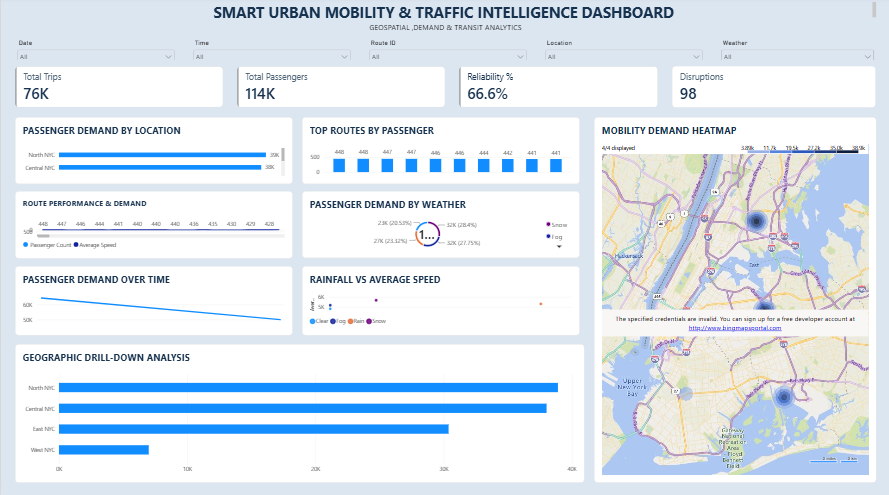

Layout of this report page (visuals, bound fields, positions):
{"tool":"powerbi","page":{"name":"Page 2","canvas":[1920,1080],"ordinal":1},"visuals":[{"type":"textbox","box":[30,10,1860,45],"z":0},{"type":"textbox","box":[30,55,1860,25],"z":1000},{"type":"slicer","fields":{"Values":["DimDate.Date"]},"box":[30,90,350,45],"z":2000},{"type":"slicer","fields":{"Values":["FactTraffic.Time"]},"box":[410,90,350,45],"z":3000},{"type":"slicer","fields":{"Values":["DimRoute.Route ID"]},"box":[790,90,350,45],"z":4000},{"type":"slicer","fields":{"Values":["DimLocation.Location"]},"box":[1170,90,350,45],"z":5000},{"type":"slicer","fields":{"Values":["DimWeather.Weather"]},"box":[1550,90,340,45],"z":6000},{"type":"cardVisual","fields":{"Data":["Sum(FactTraffic.Vehicle_Count)"]},"box":[30,150,450,90],"z":7000},{"type":"cardVisual","fields":{"Data":["Sum(FactTraffic.Passenger Count)"]},"box":[510,150,450,90],"z":8000},{"type":"cardVisual","fields":{"Data":["FactTraffic.Reliability %"]},"box":[990,150,430,90],"z":9000},{"type":"cardVisual","fields":{"Data":["DimDate.Disruptions"]},"box":[1450,150,440,90],"z":10000},{"type":"clusteredBarChart","title":"PASSENGER DEMAND BY LOCATION","fields":{"Category":["DimLocation.Location"],"Y":["Sum(FactTraffic.Passenger Count)"]},"box":[30,260,600,145],"z":11000},{"type":"clusteredColumnChart","title":"TOP ROUTES BY PASSENGER","fields":{"Category":["FactTraffic.RouteID"],"Y":["Sum(FactTraffic.Passenger Count)"]},"box":[650,260,600,145],"z":12000},{"type":"lineClusteredColumnComboChart","title":"ROUTE PERFORMANCE & DEMAND","fields":{"Category":["FactTraffic.RouteID"],"Y":["Sum(FactTraffic.Passenger Count)"],"Y2":["Sum(FactTraffic.Average Speed)"]},"box":[30,420,600,146],"z":13000},{"type":"donutChart","title":"PASSENGER DEMAND BY WEATHER","fields":{"Category":["DimWeather.Weather"],"Y":["Sum(FactTraffic.Passenger Count)"]},"box":[650,420,600,145],"z":14000},{"type":"lineChart","title":"PASSENGER DEMAND OVER TIME","fields":{"Category":["FactTraffic.Date"],"Y":["Sum(FactTraffic.Passenger Count)"]},"box":[30,580,600,150],"z":15000},{"type":"clusteredBarChart","title":"GEOGRAPHIC DRILL-DOWN ANALYSIS","fields":{"Category":["FactTraffic.Location","FactTraffic.RouteID"],"Y":["Sum(FactTraffic.Passenger Count)"]},"box":[30,750,1230,300],"z":16000},{"type":"scatterChart","title":"RAINFALL VS AVERAGE SPEED","fields":{"Series":["DimWeather.Weather"],"Size":["Sum(FactTraffic.Passenger Count)"],"X":["Sum(FactTraffic.Rainfall)"],"Y":["Sum(FactTraffic.Average Speed)"]},"box":[650,580,600,150],"z":18000},{"type":"heatmapF244EA9EE1F34E828A80CF19B41976F8","title":"MOBILITY DEMAND HEATMAP","fields":{"location":["FactTraffic.Location"],"latitude":["Avg(FactTraffic.Latitude)"],"longitude":["Avg(FactTraffic.Longitude)"],"value":["Sum(FactTraffic.Passenger Count)"]},"box":[1280,260,610,790],"z":19000}]}

Visuals, with their boxes in screenshot pixels (x1, y1, x2, y2), scaled from the page's 1920x1080 canvas onto the 889x495 screenshot:
textbox: [14,5,875,25]
textbox: [14,25,875,37]
slicer - DimDate.Date: [14,41,176,62]
slicer - FactTraffic.Time: [190,41,352,62]
slicer - DimRoute.Route ID: [366,41,528,62]
slicer - DimLocation.Location: [542,41,704,62]
slicer - DimWeather.Weather: [718,41,875,62]
cardVisual - Sum(FactTraffic.Vehicle_Count): [14,69,222,110]
cardVisual - Sum(FactTraffic.Passenger Count): [236,69,444,110]
cardVisual - FactTraffic.Reliability %: [458,69,657,110]
cardVisual - DimDate.Disruptions: [671,69,875,110]
"PASSENGER DEMAND BY LOCATION" clusteredBarChart: [14,119,292,186]
"TOP ROUTES BY PASSENGER" clusteredColumnChart: [301,119,579,186]
"ROUTE PERFORMANCE & DEMAND" lineClusteredColumnComboChart: [14,192,292,259]
"PASSENGER DEMAND BY WEATHER" donutChart: [301,192,579,259]
"PASSENGER DEMAND OVER TIME" lineChart: [14,266,292,335]
"GEOGRAPHIC DRILL-DOWN ANALYSIS" clusteredBarChart: [14,344,583,481]
"RAINFALL VS AVERAGE SPEED" scatterChart: [301,266,579,335]
"MOBILITY DEMAND HEATMAP" heatmapF244EA9EE1F34E828A80CF19B41976F8: [593,119,875,481]
